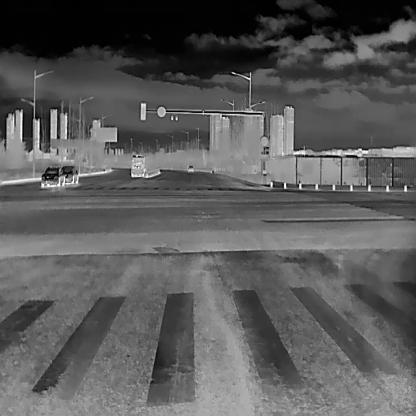car: (41, 165, 65, 186), (130, 155, 146, 177), (61, 164, 79, 183), (187, 164, 193, 172)
